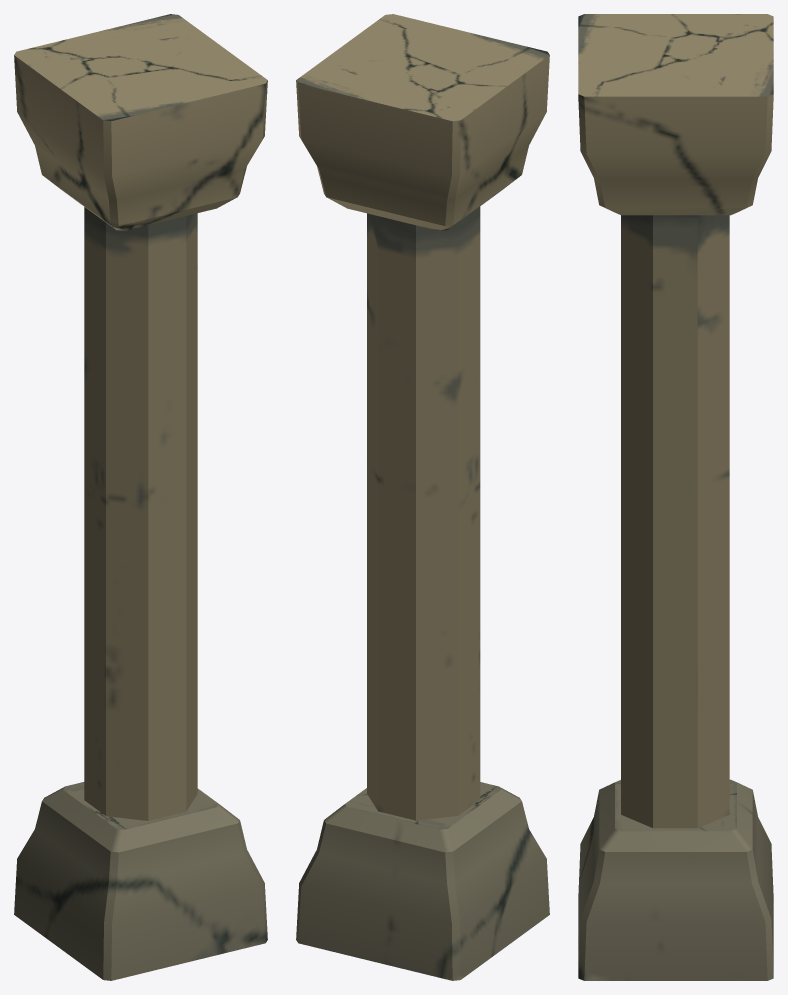
File: column 1.fbx
The picture shows the model from 3 angles, left to right: view 1: azimuth 30°, elevation 25°; view 2: azimuth 150°, elevation 25°; view 3: azimuth 270°, elevation 25°; orthographic projection. The views are drawn at different scales.
Visible parts, largest first — view 1: column:pCube34; view 2: column:pCube34; view 3: column:pCube34.
Part boxes in pixels (x1=…): column:pCube34: x1=14, y1=14, x2=267, y2=980; column:pCube34: x1=296, y1=14, x2=549, y2=980; column:pCube34: x1=578, y1=14, x2=773, y2=980.
Size of the model in its own units: 80.48 by 401 by 80.48.
